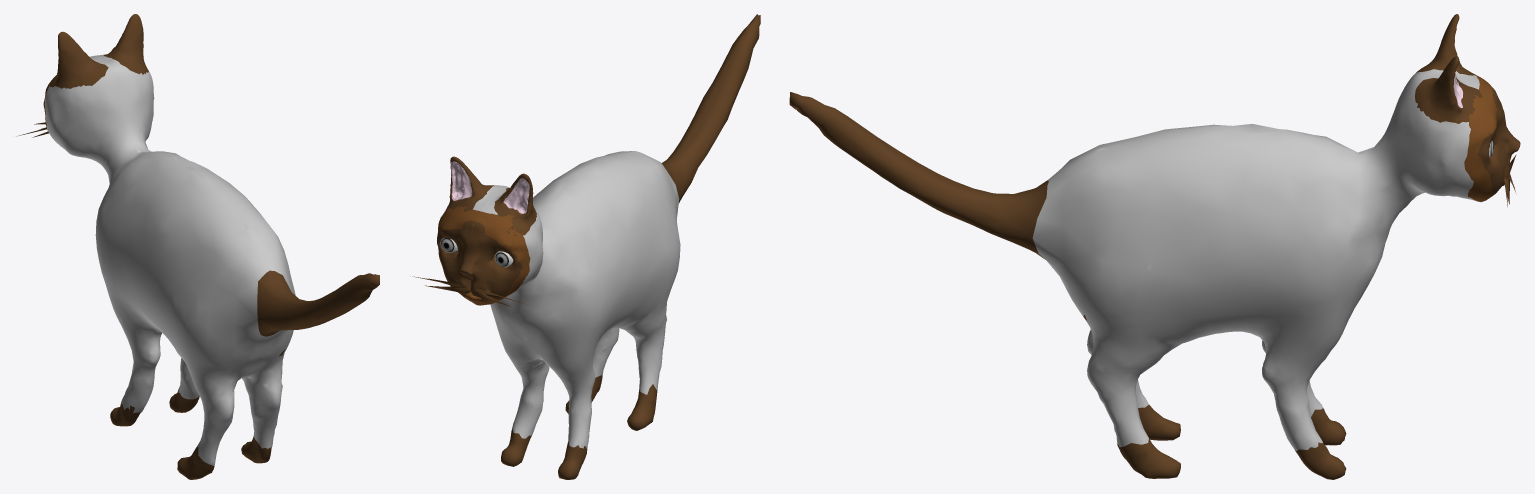
File: PetRaceModel1.fbx
The picture shows the model from 3 angles, left to right: view 1: azimuth 30°, elevation 25°; view 2: azimuth 150°, elevation 25°; view 3: azimuth 270°, elevation 25°; orthographic projection. The views are drawn at different scales.
Visible parts, largest first — view 1: Siamese Cat; view 2: Siamese Cat, Eyes.002; view 3: Siamese Cat.
Part boxes in pixels (<box>): Siamese Cat: <box>17,14,379,479</box>; Siamese Cat: <box>412,14,760,479</box>; Eyes.002: <box>440,238,513,267</box>; Siamese Cat: <box>789,14,1520,479</box>.
Size of the model in its own units: 225 by 606 by 946.
